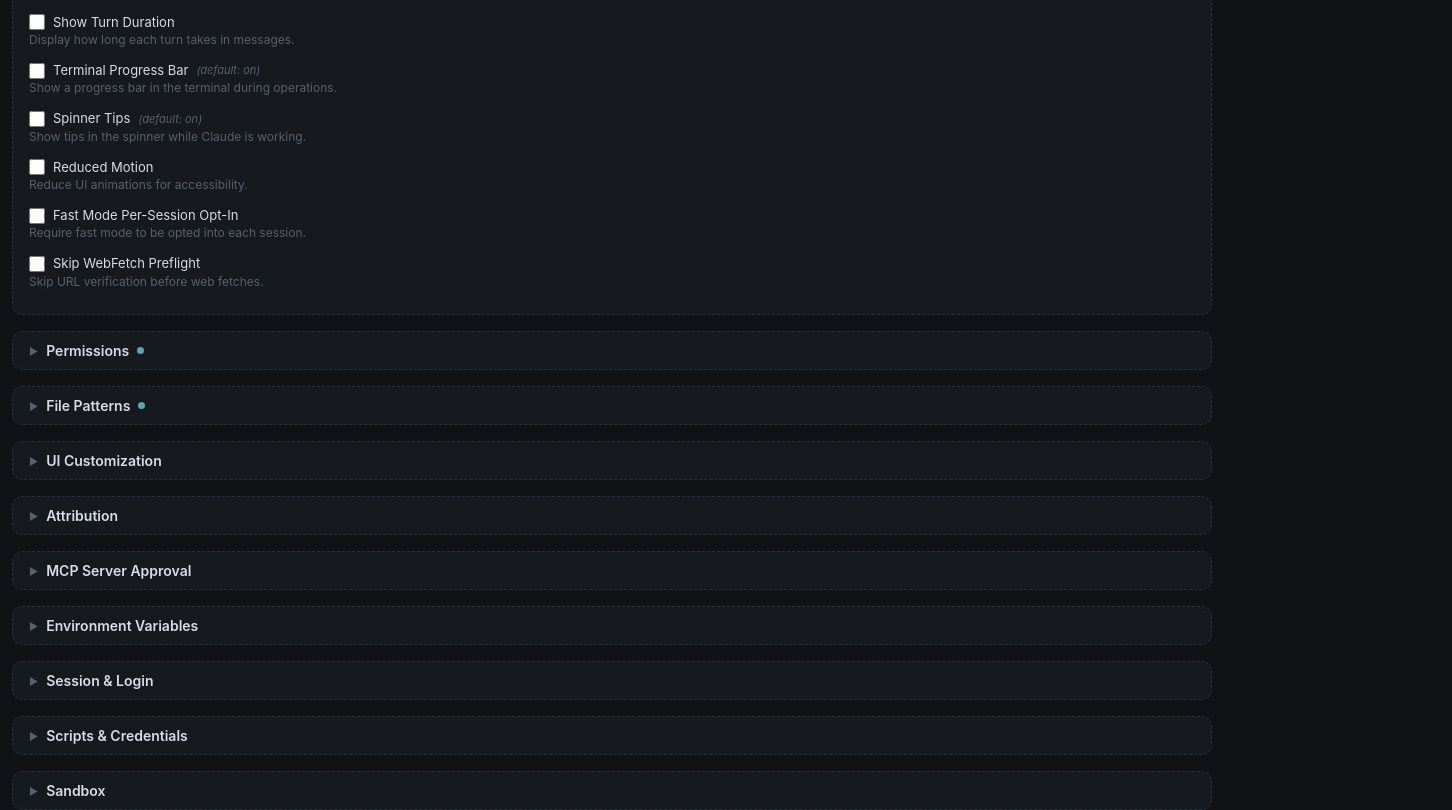
Test: ConfigPage › renders ignore patterns as tags after expanding File Patterns
(page scrolled)
Click the button "▶ File Patterns". click: (88, 406)
box: [13,388,1211,424]
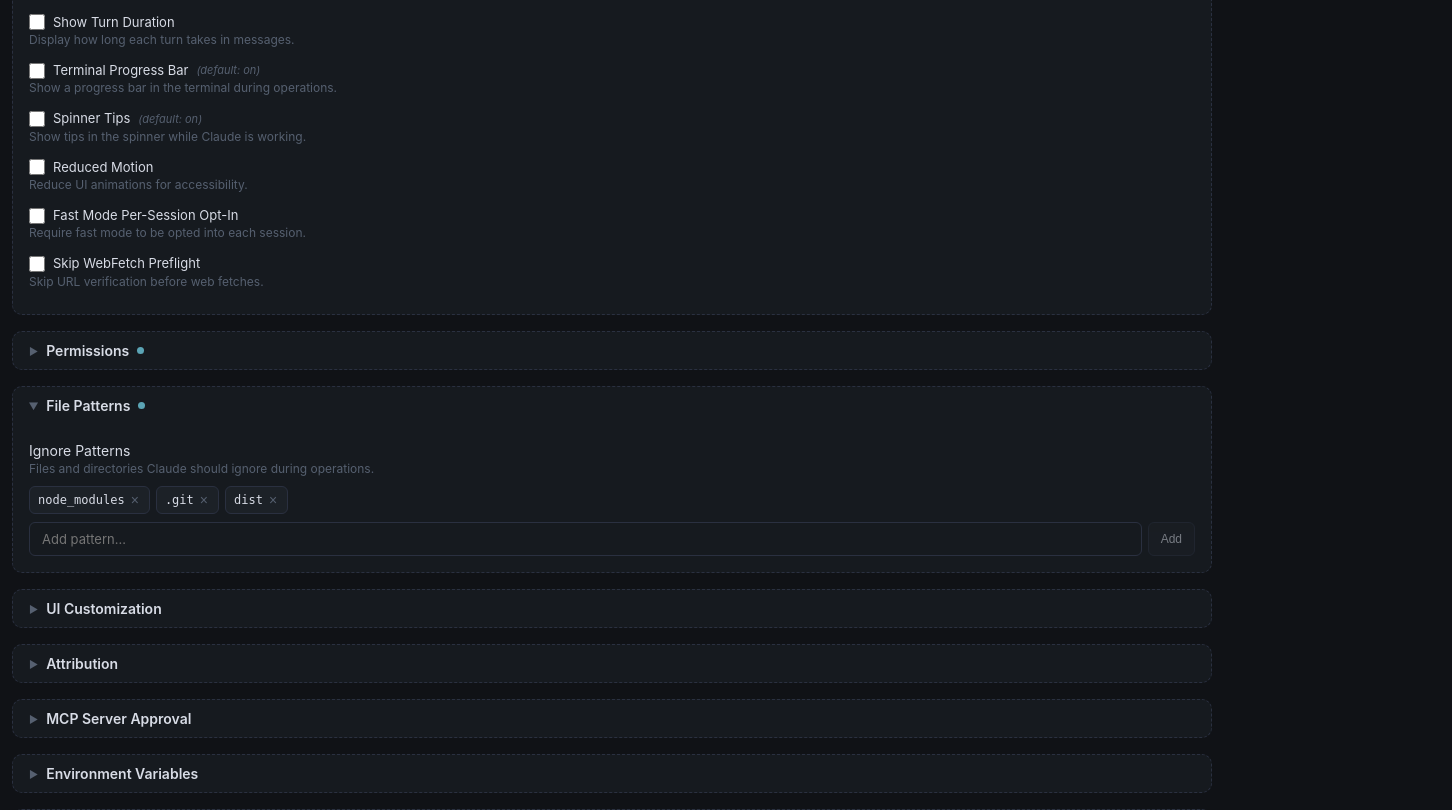
Check: the text "node_modules" is shown, box [38,493,125,507]
Check: the text ".git" is shown, box [165,493,194,507]
Check: the text "dist" is shown, box [234,493,263,507]
